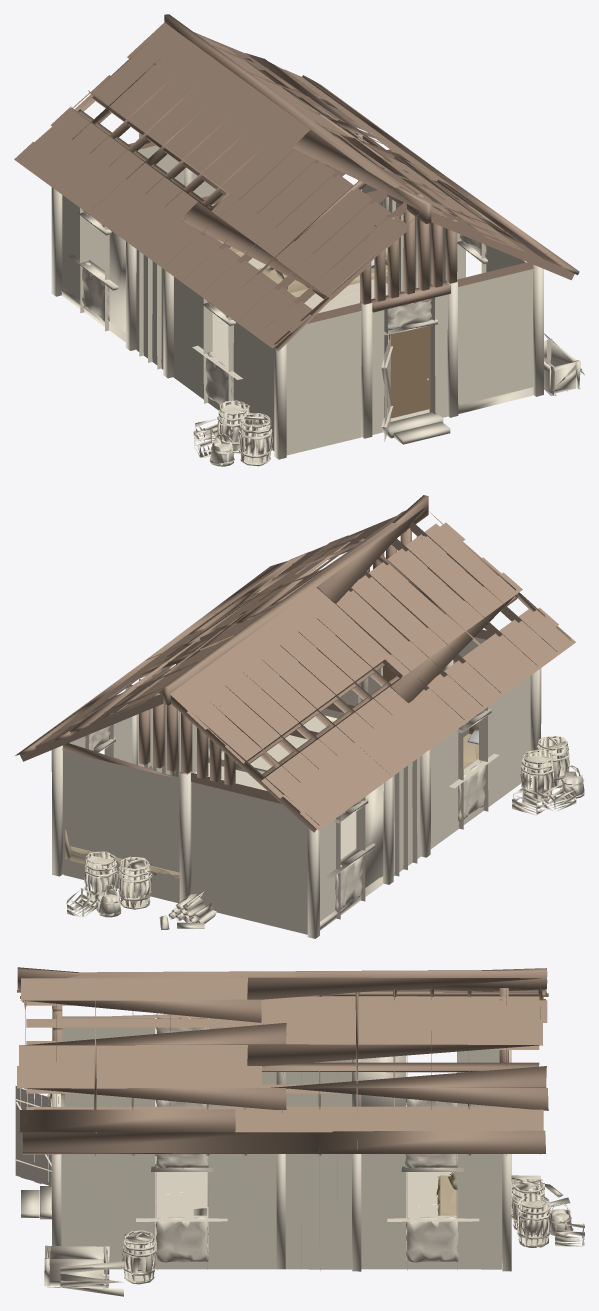
File: village-home-main.glb
The picture shows the model from 3 angles, top to bottom: view 1: azimuth 30°, elevation 25°; view 2: azimuth 150°, elevation 25°; view 3: azimuth 270°, elevation 25°; orthographic projection.
Visible parts, largest first — view 1: main, Door_Main, takaro.002_Plane.001; view 2: main, takaro.002_Plane.023, takaro.002_Plane.002; view 3: main, takaro.002_Plane.023.
Boxes of the visible parts, <box> form: main: <box>14,14,584,466</box>; Door_Main: <box>388,326,430,418</box>; takaro.002_Plane.001: <box>258,248,387,298</box>; main: <box>15,495,584,938</box>; takaro.002_Plane.023: <box>65,829,179,878</box>; takaro.002_Plane.002: <box>463,722,478,769</box>; main: <box>14,967,584,1296</box>; takaro.002_Plane.023: <box>436,1172,457,1215</box>.
Size of the model in its own units: 10.88 by 6.58 by 14.27.
